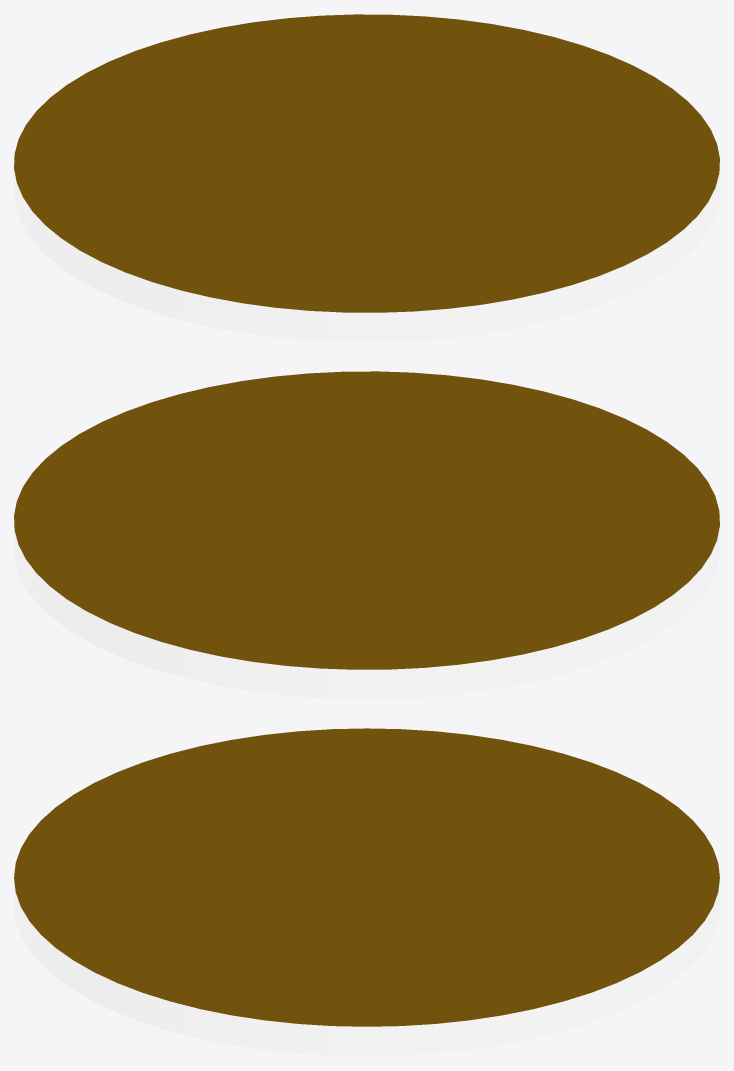
3 views of the same model, one above another, from view 1: azimuth 30°, elevation 25°; view 2: azimuth 150°, elevation 25°; view 3: azimuth 270°, elevation 25° (orthographic).
Visible parts, largest first — view 1: Cylinder; view 2: Cylinder; view 3: Cylinder.
Boxes of the visible parts, box(x1,y1,x2,y2) form: Cylinder: box(14, 14, 719, 342); Cylinder: box(14, 371, 719, 699); Cylinder: box(14, 728, 719, 1056).
Size of what is drawn, in the model's own units: 2.47 by 0.115 by 2.47.
